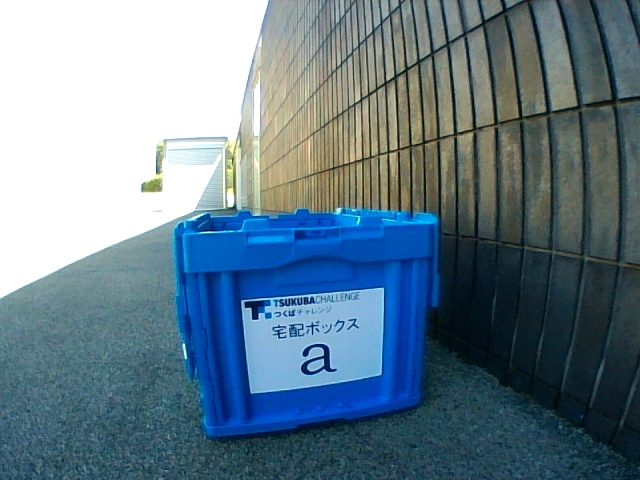blue_box: (174, 207, 439, 437)
tag_a: (267, 311, 363, 377)
